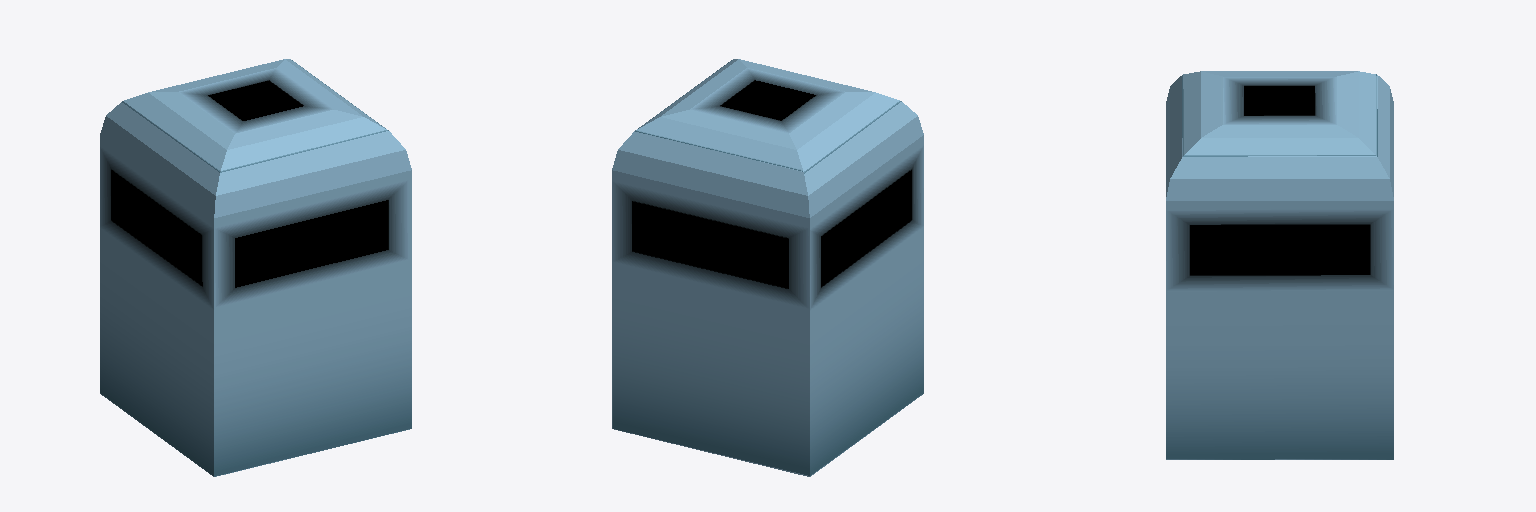
3 renders of one model, left to right at view 1: azimuth 30°, elevation 25°; view 2: azimuth 150°, elevation 25°; view 3: azimuth 270°, elevation 25°, orthographic.
Bounding box in the file's own units: 10 × 15 × 10.
1 materials, 1 textured.